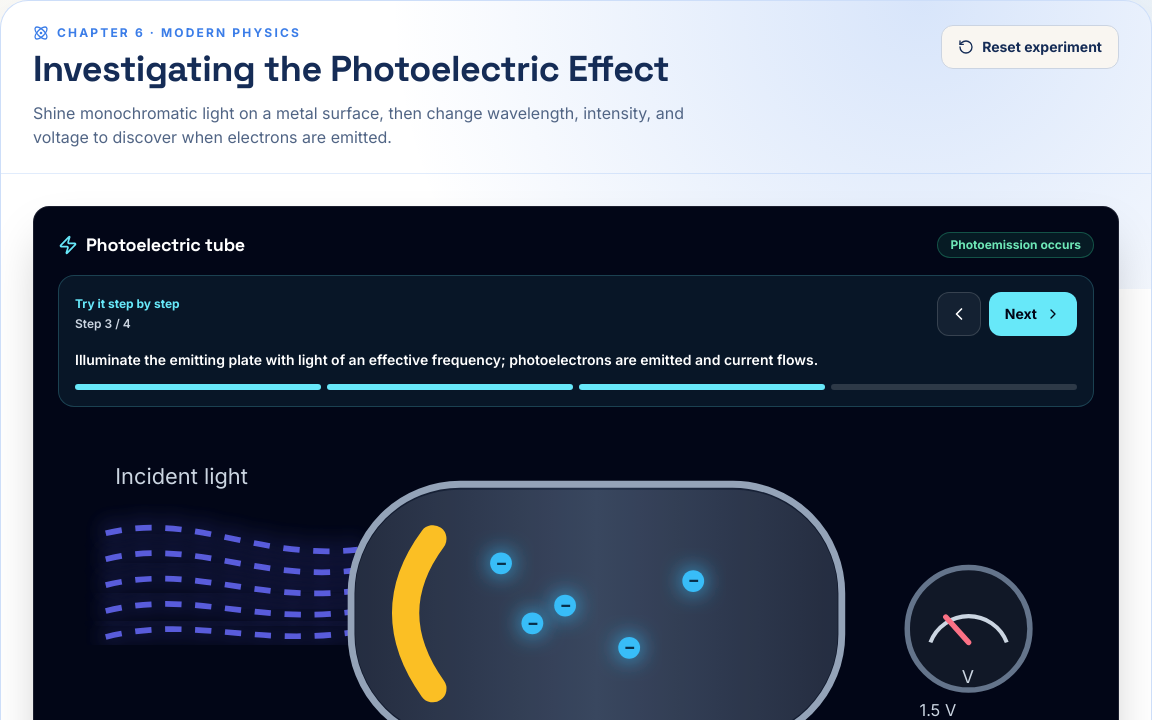
Test: PhotoelectricEffectActivity › offers large guided navigation and precise adjustment buttons
Expected: the text "Step 3 / 4" is shown, [75, 316, 131, 331]
What coordinates should you click on to do the following:
click the button named "Previous"
I would click on:
 (959, 314)
Its box is [937, 292, 981, 336].
(page scrolled)
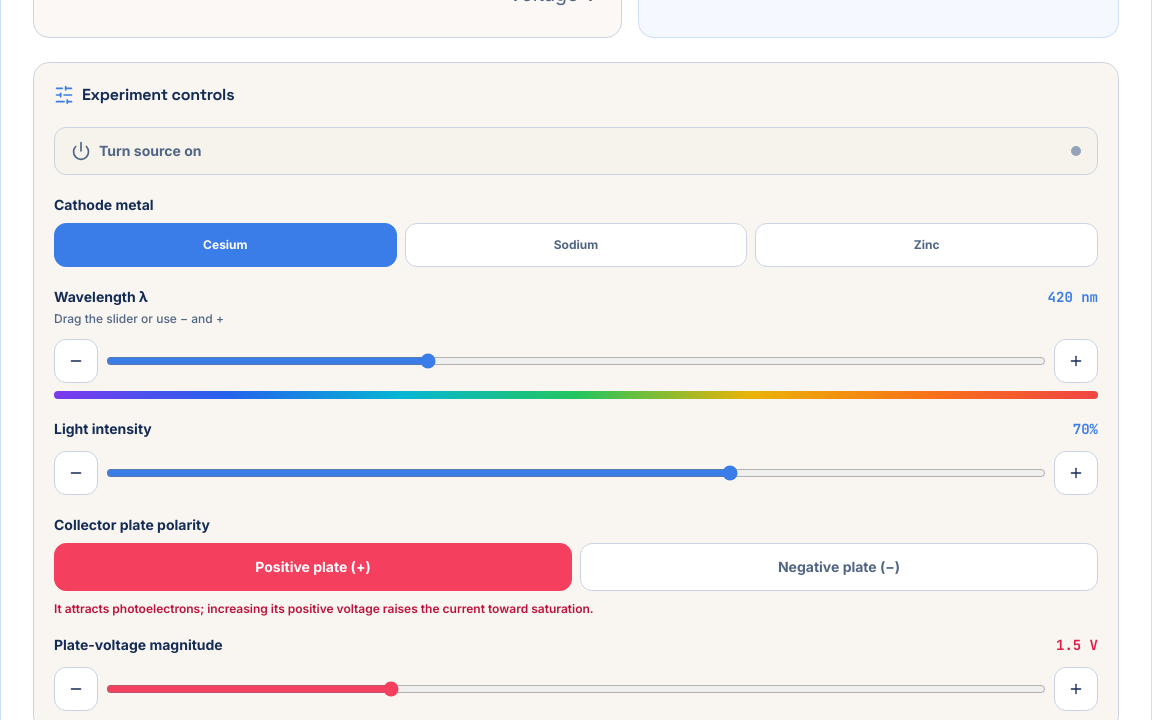
Expected: the slider labelled "Wavelength λ" holds "420", [106, 353, 1046, 369]
What coordinates should you click on to do the following:
click the button named "Increase Wavelength λ"
I would click on:
 (1076, 361)
Its box is [1054, 339, 1098, 383].
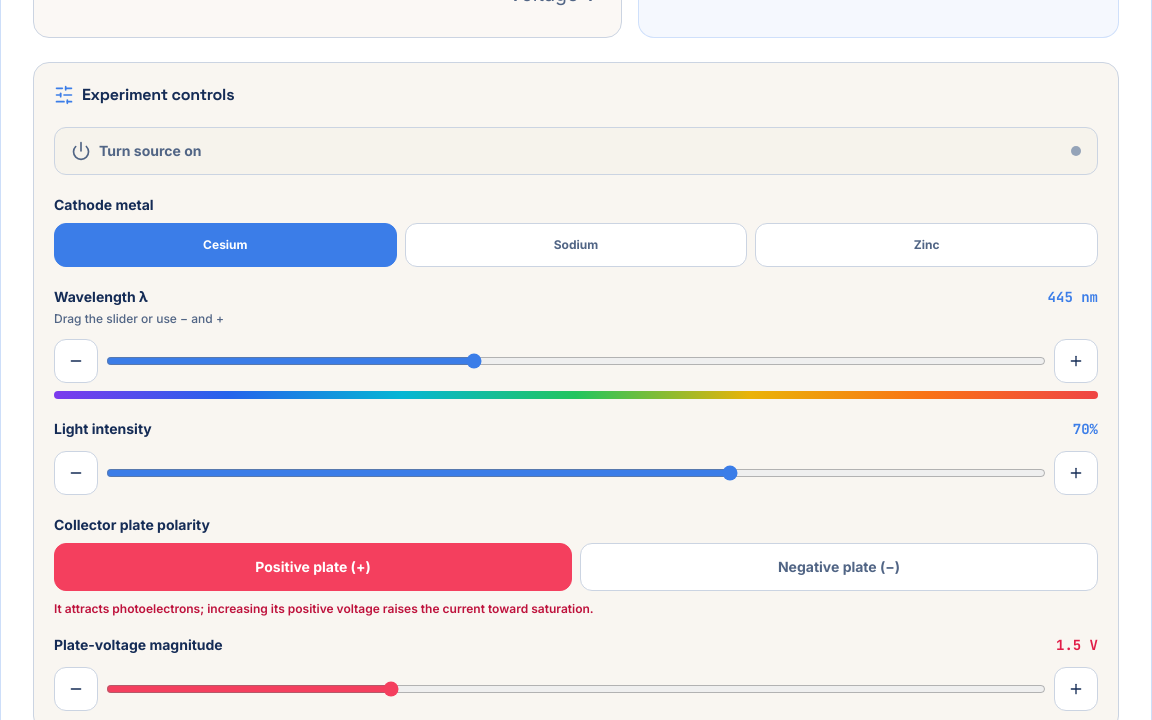
Expected: the slider labelled "Wavelength λ" holds "445", [106, 353, 1046, 369]
